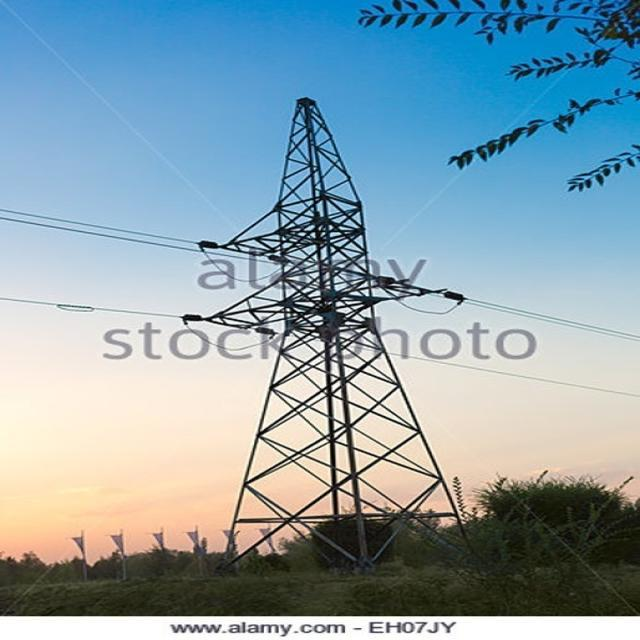non-critical vegetation: (182, 90, 494, 574)
